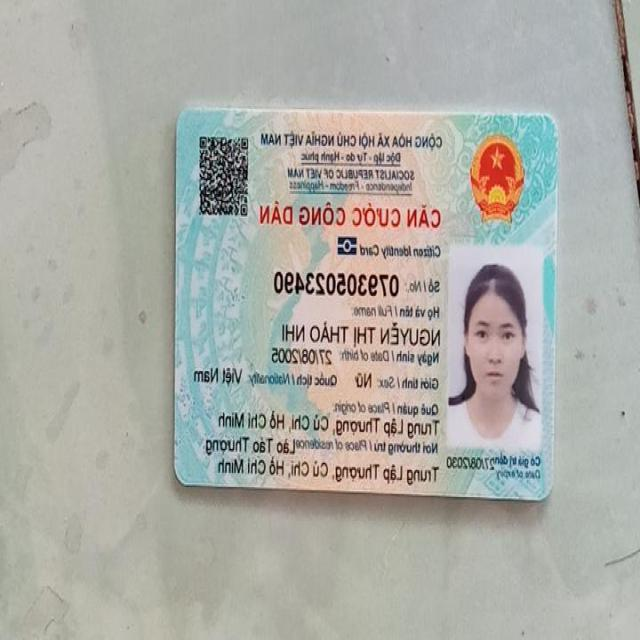bottom_left: (524, 470, 564, 514)
bottom_right: (164, 458, 201, 499)
image_person: (444, 247, 546, 446)
top_left: (531, 105, 569, 144)
top_right: (164, 96, 204, 136)
